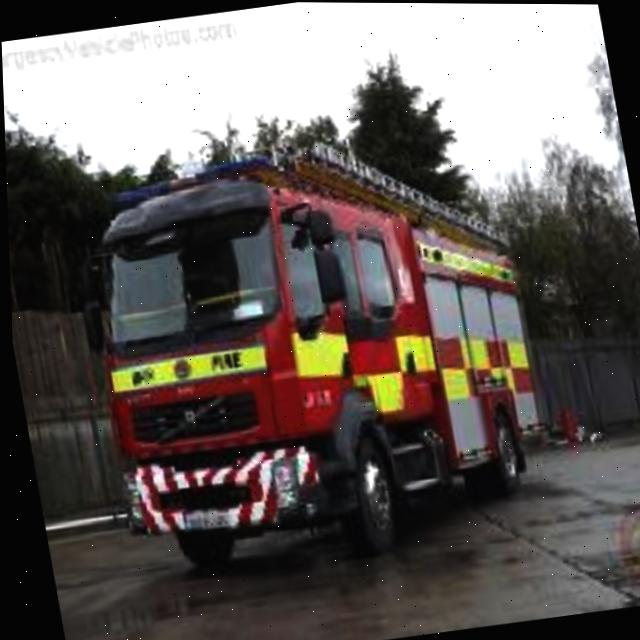emergency: (56, 116, 571, 570)
